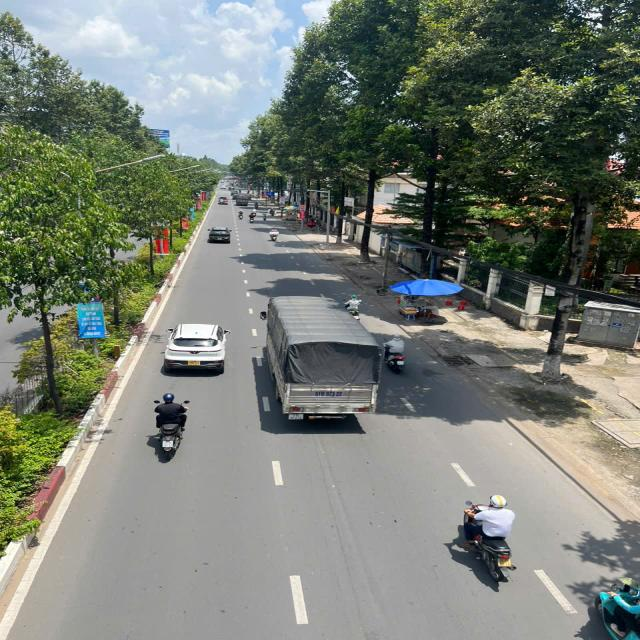ben: (255, 296, 391, 430)
car: (160, 318, 234, 378), (205, 221, 235, 246)
motobyte: (456, 488, 528, 594), (140, 387, 194, 462), (384, 328, 411, 377), (347, 293, 367, 325), (268, 224, 282, 246)
